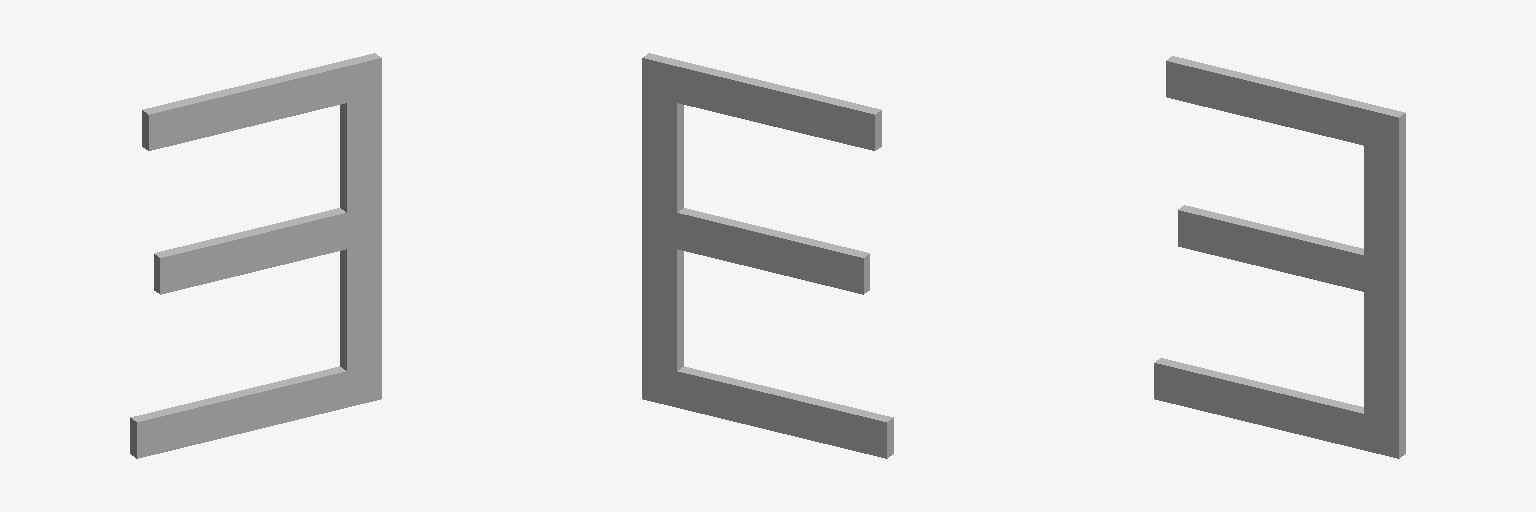
Rendered from E_UPPER.obj.
The picture shows the model from 3 angles: view 1: azimuth 30°, elevation 25°; view 2: azimuth 150°, elevation 25°; view 3: azimuth 330°, elevation 25°; orthographic projection.
Parts seen in each view (by area): view 1: default; view 2: default; view 3: default.
Part boxes in pixels (x1,y1,x2,y2): default: (130, 53, 381, 458); default: (642, 53, 893, 458); default: (1154, 56, 1405, 458).
Size of the model in its own units: 2.1 by 2.8 by 0.1.